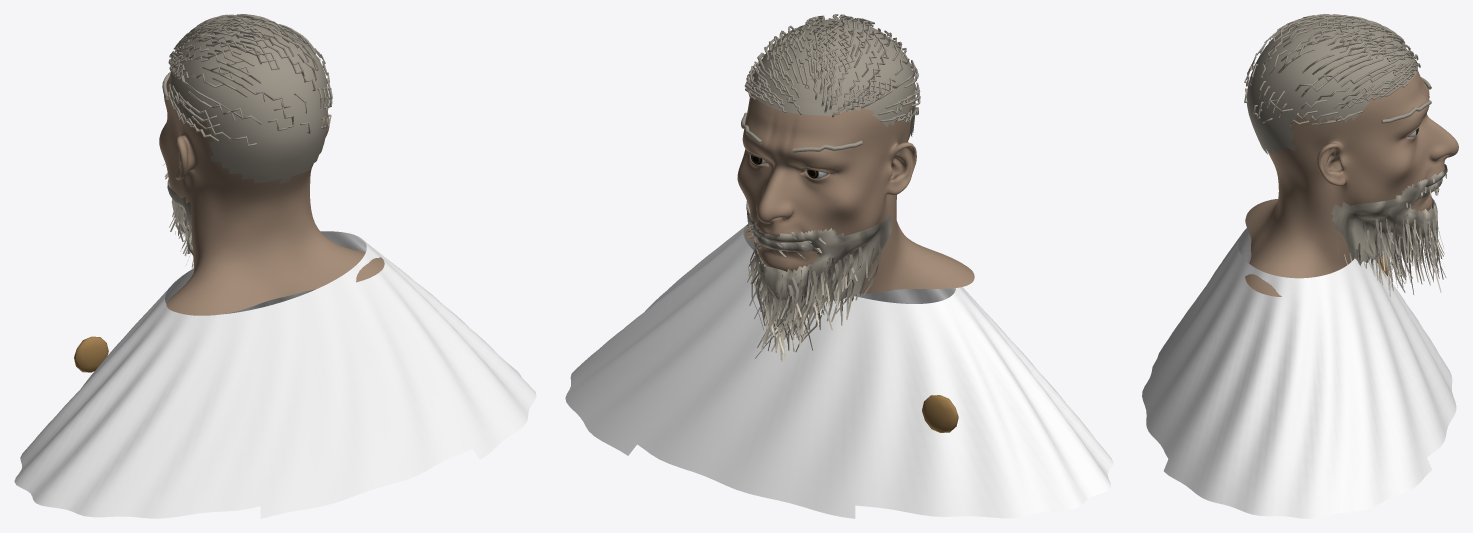
Rendered from envoy_003.glb.
3 renders of one model, left to right at view 1: azimuth 30°, elevation 25°; view 2: azimuth 150°, elevation 25°; view 3: azimuth 270°, elevation 25°, orthographic. The views are drawn at different scales.
Visible parts, largest first — view 1: Folded shoulder mantle, Envoy 003 body, Envoy 003 fitted scalp, Shoulder clasp, Hades beard hair cards; view 2: Folded shoulder mantle, Envoy 003 body, Envoy 003 fitted scalp, Hades beard hair cards, Hades beard hair shell, Shoulder clasp; view 3: Folded shoulder mantle, Envoy 003 body, Envoy 003 fitted scalp, Hades beard hair shell, Hades beard hair cards.
Part boxes in pixels (bbox=[...]): Folded shoulder mantle: bbox=[14, 231, 536, 518]; Envoy 003 body: bbox=[159, 71, 384, 315]; Envoy 003 fitted scalp: bbox=[170, 19, 328, 183]; Shoulder clasp: bbox=[74, 336, 108, 372]; Hades beard hair cards: bbox=[163, 163, 193, 268]; Folded shoulder mantle: bbox=[565, 224, 1113, 518]; Envoy 003 body: bbox=[737, 94, 974, 293]; Envoy 003 fitted scalp: bbox=[750, 19, 915, 139]; Hades beard hair cards: bbox=[746, 224, 881, 362]; Hades beard hair shell: bbox=[746, 201, 892, 303]; Shoulder clasp: bbox=[922, 395, 958, 432]; Folded shoulder mantle: bbox=[1142, 228, 1456, 518]; Envoy 003 body: bbox=[1245, 70, 1458, 296]; Envoy 003 fitted scalp: bbox=[1246, 19, 1417, 154]; Hades beard hair shell: bbox=[1331, 164, 1447, 263]; Hades beard hair cards: bbox=[1337, 174, 1446, 296].
Bounding box in the file's own units: 0.3152 × 0.2464 × 0.1845.
